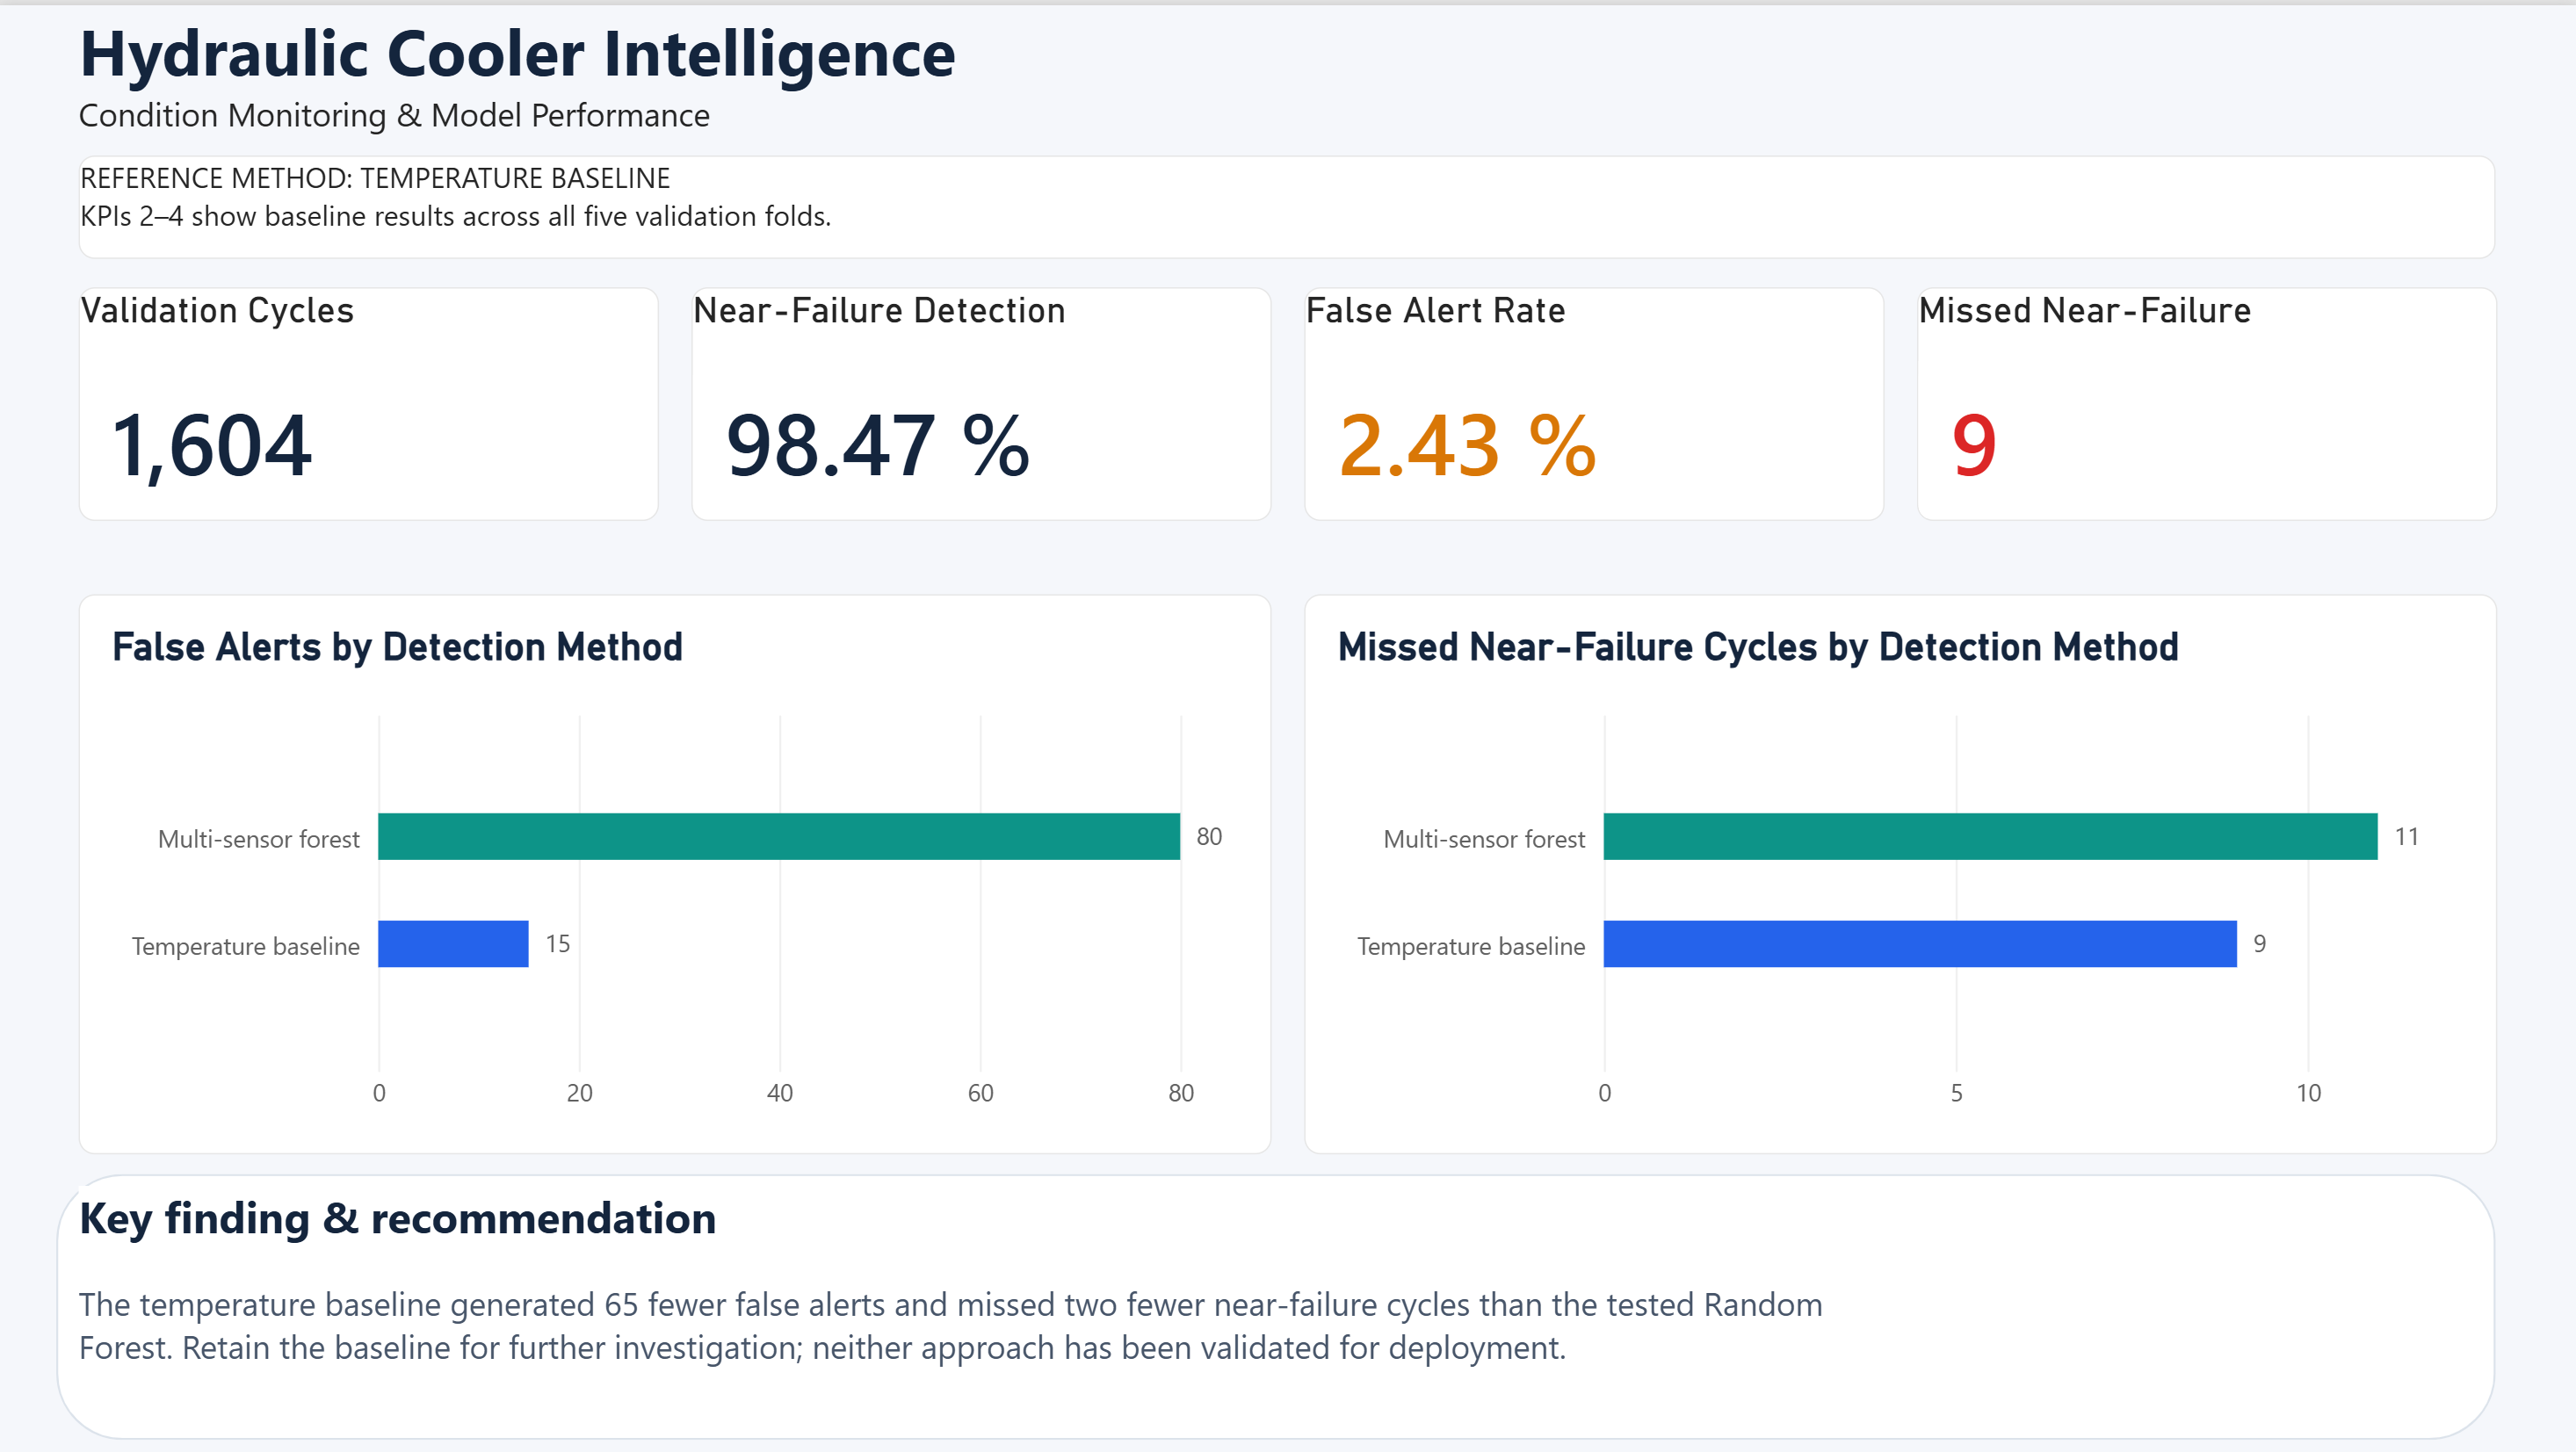

The dashboard page shown, as its layout file describes it:
{"tool":"powerbi","page":{"name":"01 Executive Overview","canvas":[1280,720],"ordinal":0},"visuals":[{"type":"textbox","box":[39.9,0,471,69],"z":0},{"type":"cardVisual","title":"Validation Cycles","fields":{"Data":["Analytics Measures.Validation Cycles Display"]},"box":[40,140,288,116],"z":1000},{"type":"cardVisual","title":"Near-Failure Detection","fields":{"Data":["Predictions.Near-Failure Detection Rate"]},"box":[344,140,288,116],"z":2000},{"type":"cardVisual","title":"False Alert Rate","fields":{"Data":["Predictions.Temperature Rule False-Alert Rate"]},"box":[648,140,288,116],"z":3000},{"type":"cardVisual","title":"Missed Near-Failure","fields":{"Data":["Predictions.Missed Near-Failure Cycles"]},"box":[952,140,288,116],"z":4000},{"type":"clusteredBarChart","title":"False Alerts by Detection Method","fields":{"Category":["Predictions.model"],"Y":["Predictions.Unnecessary Alerts"]},"box":[40,292,592,278],"z":5000},{"type":"clusteredBarChart","title":"Missed Near-Failure Cycles by Detection Method","fields":{"Category":["Predictions.model"],"Y":["Predictions.Missed Near-Failure Cycles"]},"box":[648,292,592,278],"z":6000},{"type":"textbox","box":[39.7,74.4,1199.4,51.3],"z":7000},{"type":"shape","box":[29.1,580.1,1210.5,132.1],"z":8000},{"type":"textbox","box":[39.9,586,871.4,106.6],"z":9000}]}

Visuals, with their boxes in screenshot pixels (x1, y1, x2, y2), scaled from the page's 1280x720 canvas onto the 2576x1452 screenshot:
textbox: [80,0,1028,139]
"Validation Cycles" cardVisual: [81,282,660,517]
"Near-Failure Detection" cardVisual: [692,282,1272,517]
"False Alert Rate" cardVisual: [1304,282,1884,517]
"Missed Near-Failure" cardVisual: [1916,282,2495,517]
"False Alerts by Detection Method" clusteredBarChart: [81,589,1272,1150]
"Missed Near-Failure Cycles by Detection Method" clusteredBarChart: [1304,589,2495,1150]
textbox: [80,150,2493,254]
shape: [59,1170,2494,1436]
textbox: [80,1181,1834,1397]
